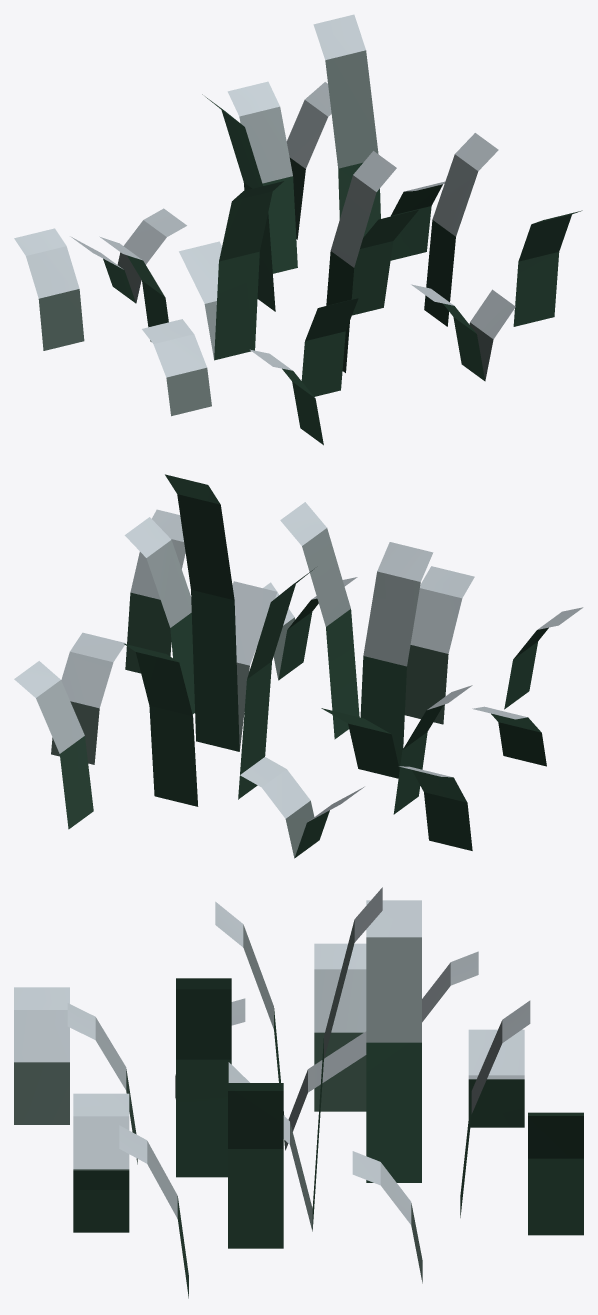
File: grass_large.glb
3 views of the same model, one above another, from view 1: azimuth 30°, elevation 25°; view 2: azimuth 150°, elevation 25°; view 3: azimuth 270°, elevation 25° (orthographic). The views are drawn at different scales.
Parts seen in each view (by area): view 1: grass_large; view 2: grass_large; view 3: grass_large.
Boxes of the visible parts, x1,y1,x2,y2 form: grass_large: (14,14,582,445); grass_large: (14,474,583,858); grass_large: (14,887,583,1298).
Size of the model in its own units: 0.409 by 0.254 by 0.4079.
